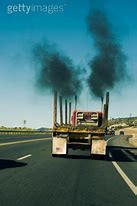smoke: (85, 5, 131, 98), (30, 41, 82, 98)
